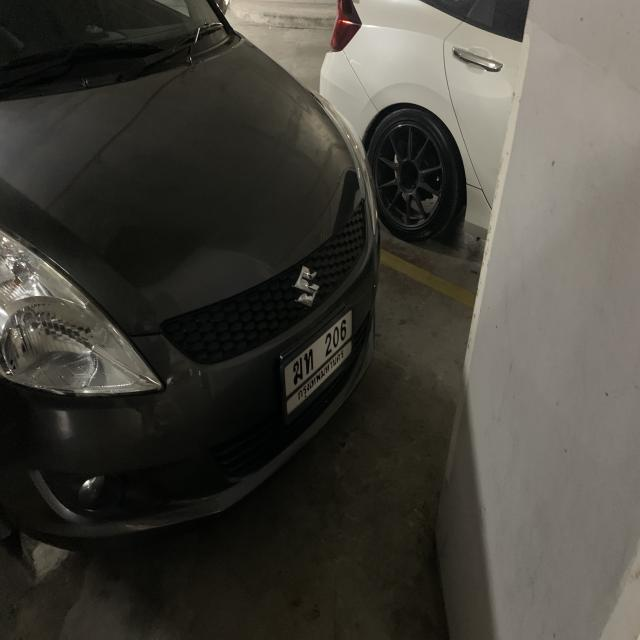license_plate: (276, 302, 358, 420)
